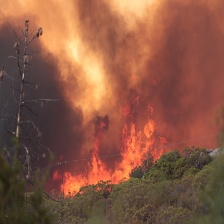fire: (55, 100, 163, 200)
smoke: (2, 2, 222, 153)
